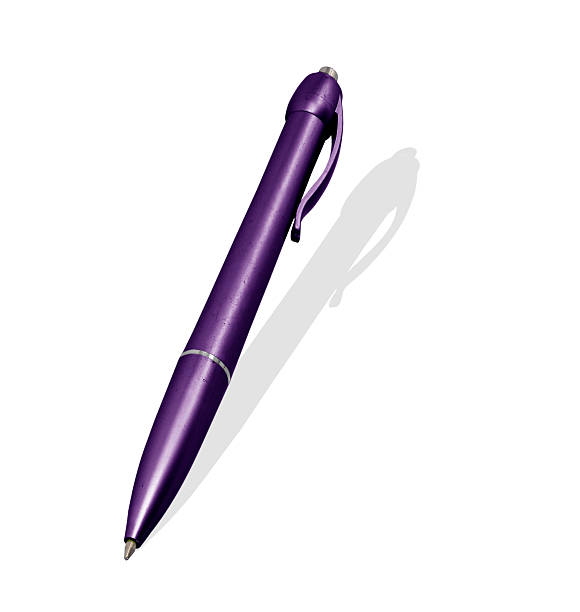pen: (109, 56, 364, 567)
